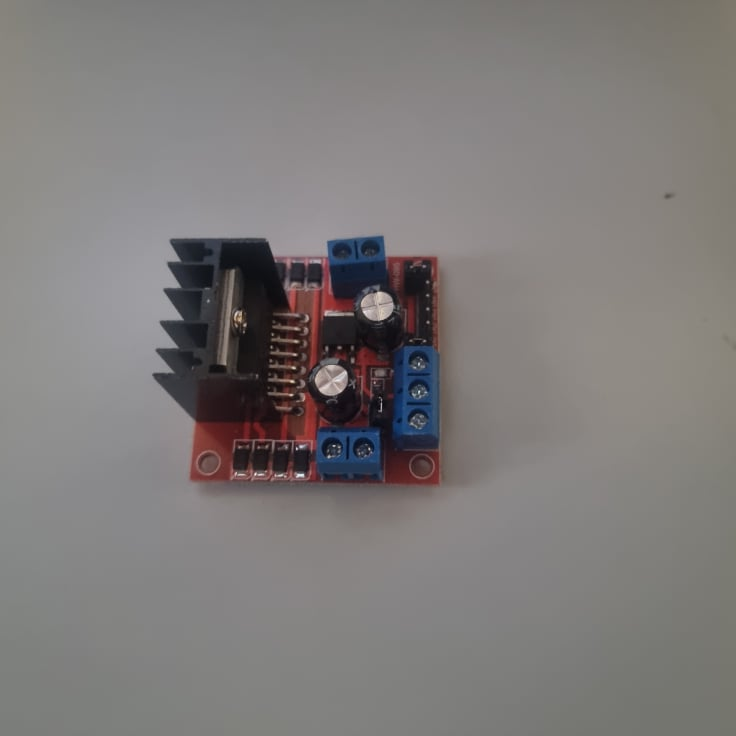MOTOR: (150, 237, 444, 491)
